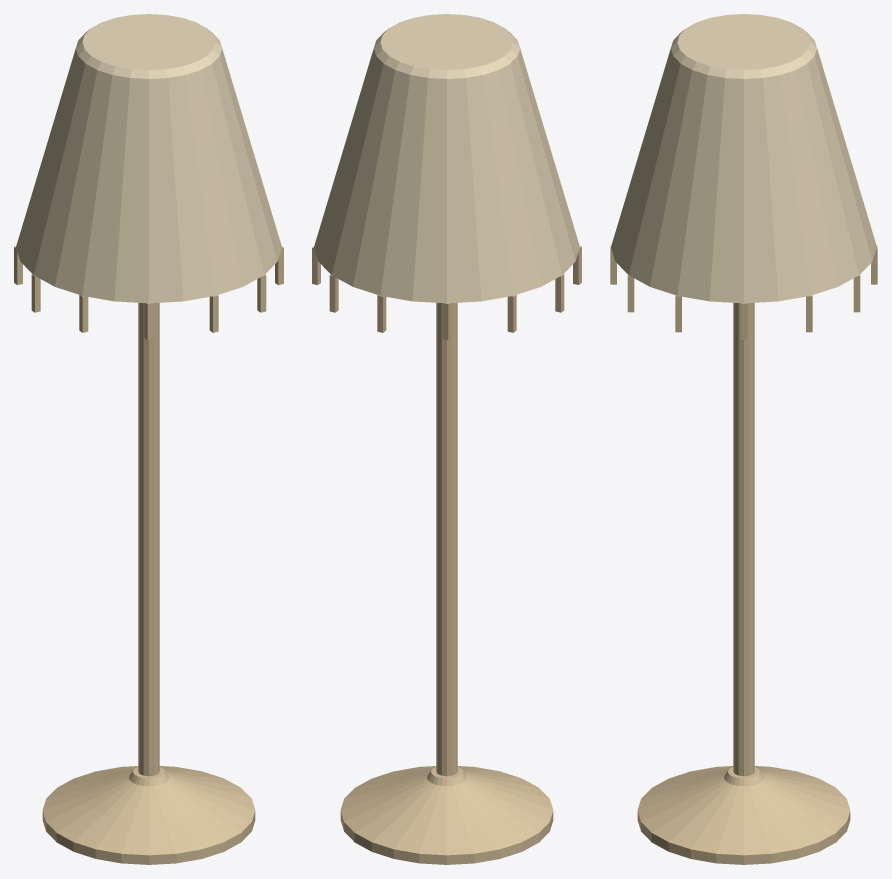
The model's file is FloorLamp.glb.
3 renders of one model, left to right at view 1: azimuth 30°, elevation 25°; view 2: azimuth 150°, elevation 25°; view 3: azimuth 270°, elevation 25°, orthographic.
Parts seen in each view (by area): view 1: FloorLamp_Shade, FloorLamp_Brass; view 2: FloorLamp_Shade, FloorLamp_Brass; view 3: FloorLamp_Shade, FloorLamp_Brass.
Boxes of the visible parts, x1=… form: FloorLamp_Shade: x1=16, y1=14, x2=281, y2=303; FloorLamp_Brass: x1=14, y1=246, x2=283, y2=864; FloorLamp_Shade: x1=314, y1=14, x2=579, y2=303; FloorLamp_Brass: x1=312, y1=246, x2=581, y2=864; FloorLamp_Shade: x1=611, y1=14, x2=876, y2=303; FloorLamp_Brass: x1=610, y1=245, x2=877, y2=864.
Bounding box in the file's own units: 2.01 × 6.45 × 2.01.
